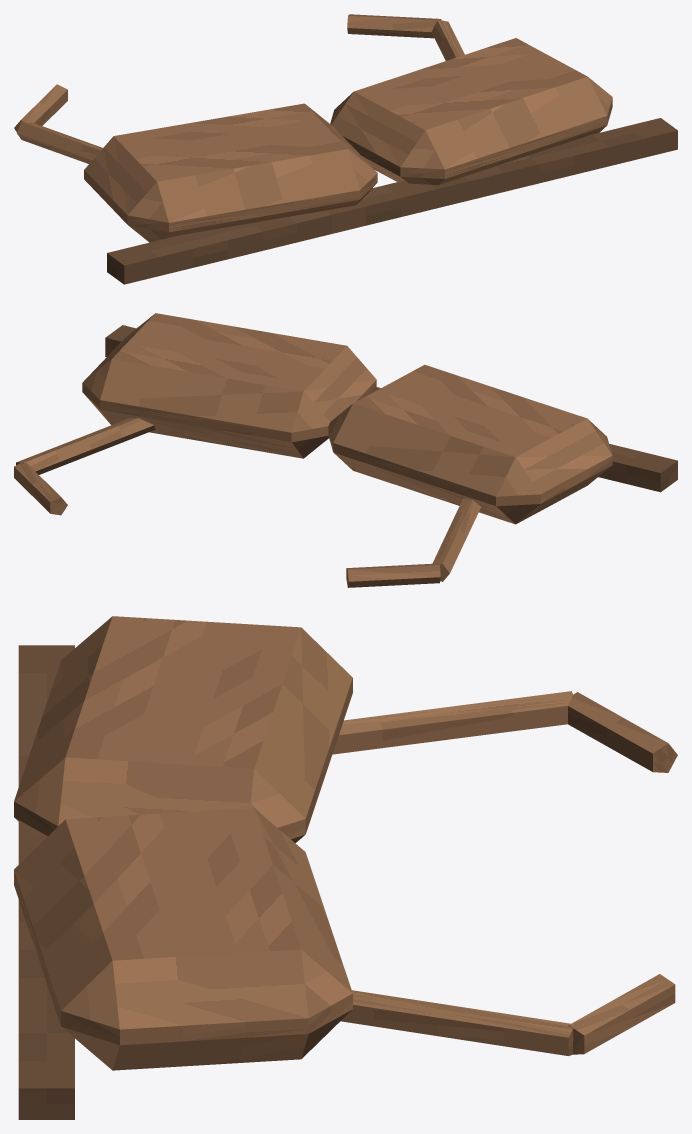
Rendered from bikini_top_fur.glb.
3 views of the same model, one above another, from view 1: azimuth 30°, elevation 25°; view 2: azimuth 150°, elevation 25°; view 3: azimuth 270°, elevation 25° (orthographic). The views are drawn at different scales.
Parts seen in each view (by area): view 1: block_shaped cup (×2), block_underband, block_strap 1 (×2), block_strap 0 (×2); view 2: block_shaped cup (×2), block_strap 0 (×2), block_strap 1 (×2), block_underband; view 3: block_shaped cup (×2), block_strap 0 (×2), block_underband, block_strap 1 (×2).
Boxes of the visible parts, x1,y1,x2,y2 form: block_shaped cup (×2): (84,38,612,242); block_underband: (107,118,677,284); block_strap 1 (×2): (14,14,441,131); block_strap 0 (×2): (17,19,464,163); block_shaped cup (×2): (82,313,612,524); block_strap 0 (×2): (16,418,481,581); block_strap 1 (×2): (14,461,440,587); block_underband: (105,325,677,492); block_shaped cup (×2): (14,616,352,1070); block_strap 0 (×2): (332,691,574,1055); block_underband: (18,645,74,1119); block_strap 1 (×2): (568,692,677,1054).
Size of the model in its own units: 0.2142 by 0.0248 by 0.1357.
1 material, 1 textured.
